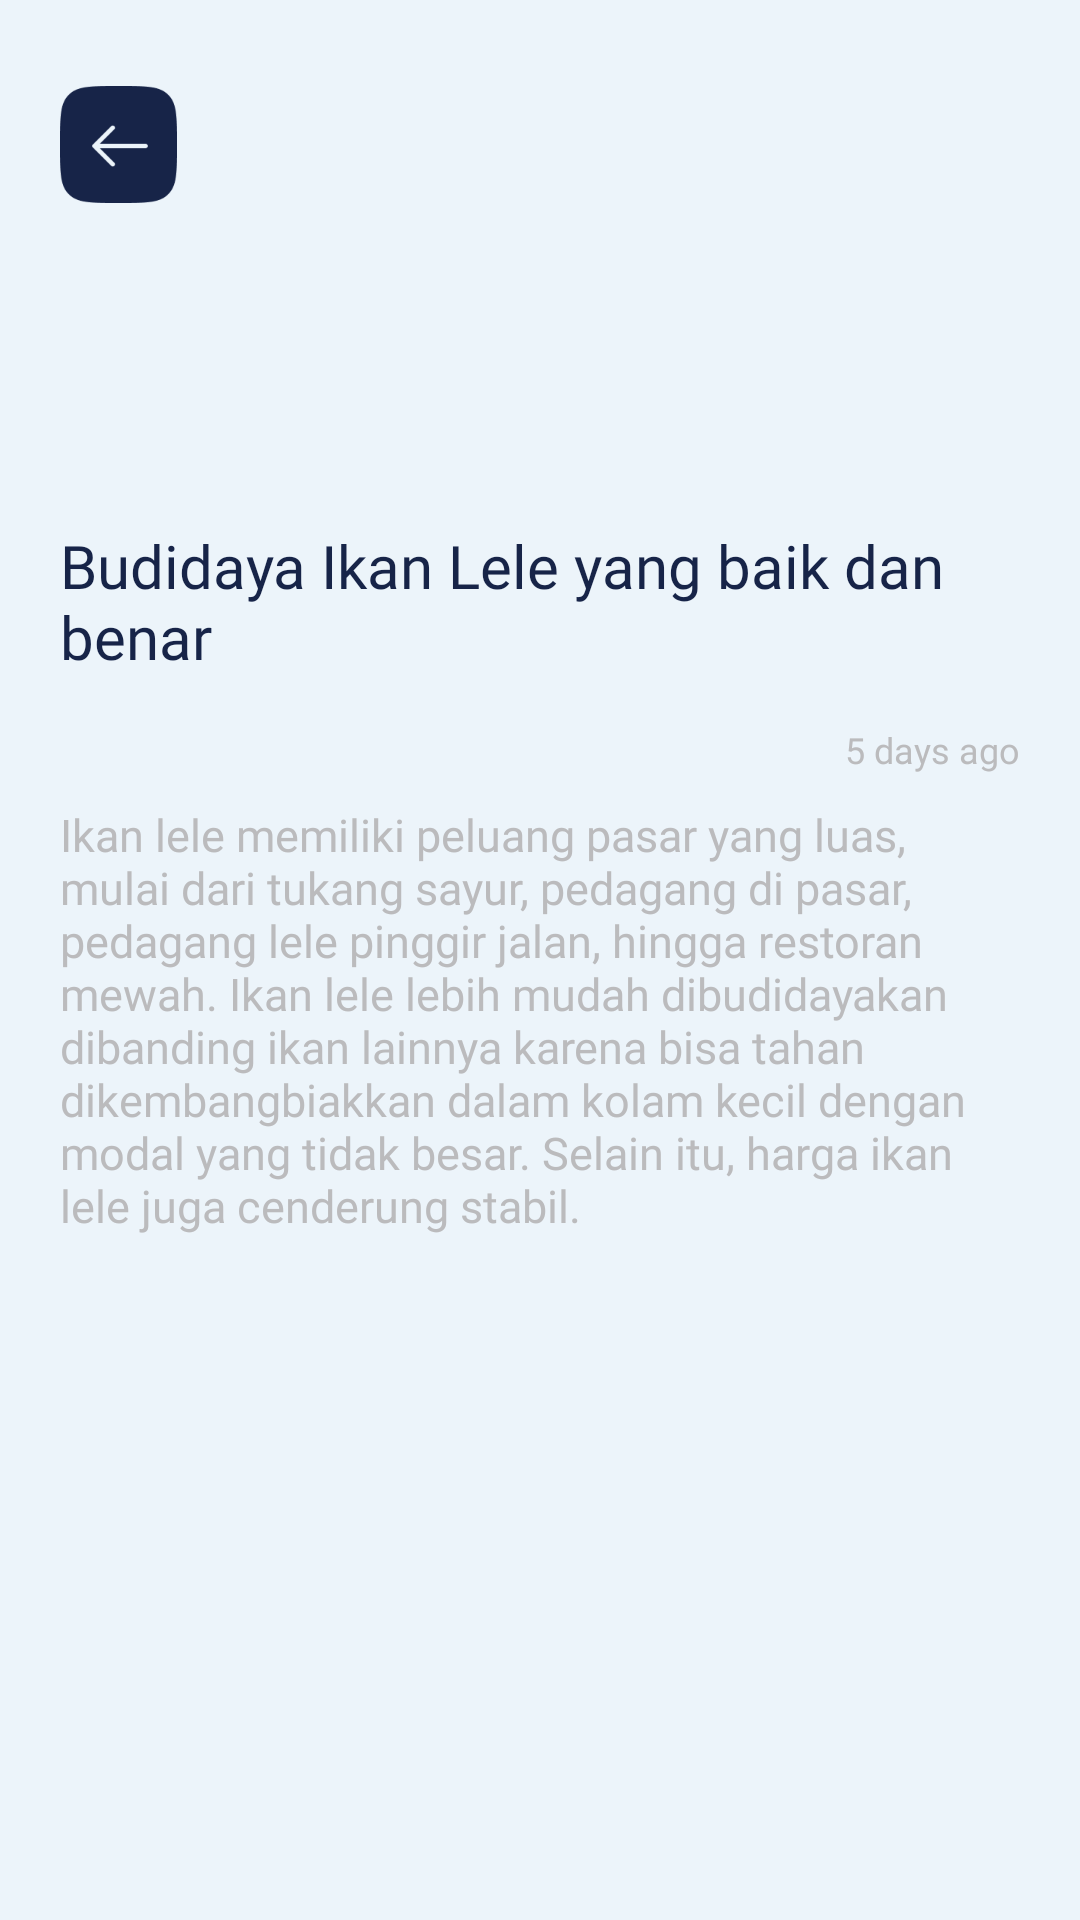

Locate icon controls on the screen. Image size 1080w x 1920h, boxes as (x1, y1, x2, y2).
back: (60, 86, 177, 203)
